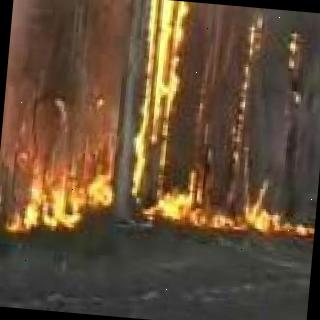fire: (226, 27, 320, 243), (131, 0, 219, 230), (0, 121, 119, 244)
